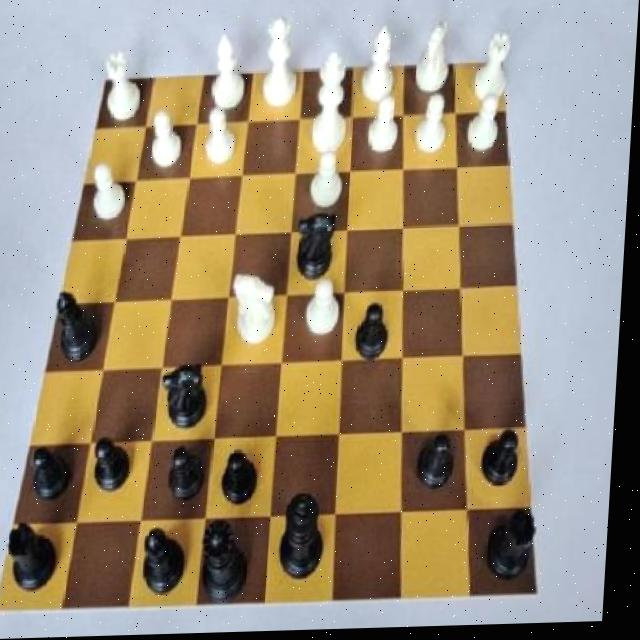bishop: (51, 288, 116, 368), (144, 526, 198, 607)
black-bishop: (282, 493, 338, 584)
black-king: (162, 361, 224, 444)
black-knight: (414, 432, 470, 502), (91, 430, 143, 502), (482, 430, 531, 502), (350, 303, 404, 368), (168, 442, 214, 516), (224, 438, 270, 510), (32, 441, 80, 506)
black-pawn: (199, 518, 265, 610)
black-queen: (487, 507, 550, 594), (7, 518, 70, 604)
black-rook: (359, 23, 406, 112), (206, 27, 251, 114)
white-bishop: (309, 46, 354, 161)
white-king: (234, 271, 285, 355), (413, 18, 456, 103)
white-knight: (299, 276, 353, 345), (199, 100, 247, 175), (89, 160, 135, 232), (466, 91, 509, 164), (410, 93, 456, 161), (147, 105, 189, 178), (364, 94, 408, 162), (308, 147, 350, 218)
white-pawn: (259, 17, 309, 114)
white-queen: (468, 28, 519, 110), (104, 44, 150, 124)
